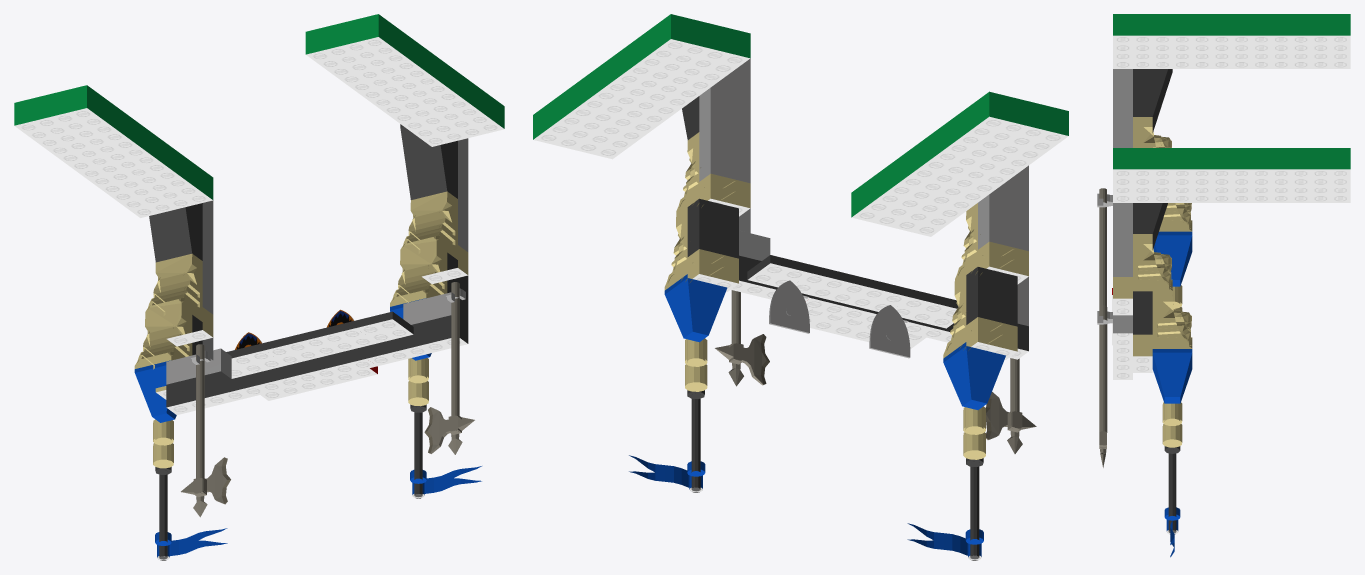
3 views of the same model, side by side, from view 1: azimuth 30°, elevation 25°; view 2: azimuth 150°, elevation 25°; view 3: azimuth 270°, elevation 25° (orthographic). The views are drawn at different scales.
Parts seen in each view (by area): view 1: 004_OC_6095B4_PART_1, 039_OC_6095B4_PART_5, 025_OC_6095B4_PART_3, 019_OC_6095B4_PART_4, 073_L_612300, 044_OC_6095B4_PART_14, 031_OC_6095B4_PART_6, 064_L_449500_flag_Blue_135, 057_OC_6095B4_PART_8.2; view 2: 004_OC_6095B4_PART_1, 019_OC_6095B4_PART_4, 025_OC_6095B4_PART_3, 039_OC_6095B4_PART_5, 044_OC_6095B4_PART_14, 073_L_612300, 069_OC_4801A1_Shield, 050_OC_6095B4_PART_12, 031_OC_6095B4_PART_6, 064_L_449500_flag_Blue_135, 057_OC_6095B4_PART_8.2; view 3: 004_OC_6095B4_PART_1, 019_OC_6095B4_PART_4, 025_OC_6095B4_PART_3, 039_OC_6095B4_PART_5, 044_OC_6095B4_PART_14, 073_L_612300.
Part boxes in pixels (bbox=[...]): 004_OC_6095B4_PART_1: bbox=[14, 14, 504, 217]; 039_OC_6095B4_PART_5: bbox=[166, 275, 468, 414]; 025_OC_6095B4_PART_3: bbox=[134, 200, 213, 560]; 019_OC_6095B4_PART_4: bbox=[390, 124, 468, 498]; 073_L_612300: bbox=[181, 344, 230, 517]; 044_OC_6095B4_PART_14: bbox=[424, 282, 474, 454]; 031_OC_6095B4_PART_6: bbox=[261, 366, 377, 400]; 064_L_449500_flag_Blue_135: bbox=[425, 466, 481, 493]; 057_OC_6095B4_PART_8.2: bbox=[170, 528, 227, 555]; 004_OC_6095B4_PART_1: bbox=[533, 14, 1068, 236]; 019_OC_6095B4_PART_4: bbox=[664, 58, 750, 492]; 025_OC_6095B4_PART_3: bbox=[943, 165, 1028, 560]; 039_OC_6095B4_PART_5: bbox=[731, 208, 1028, 359]; 044_OC_6095B4_PART_14: bbox=[715, 290, 769, 386]; 073_L_612300: bbox=[986, 358, 1036, 453]; 069_OC_4801A1_Shield: bbox=[869, 305, 910, 358]; 050_OC_6095B4_PART_12: bbox=[769, 280, 809, 333]; 031_OC_6095B4_PART_6: bbox=[808, 308, 926, 348]; 064_L_449500_flag_Blue_135: bbox=[629, 455, 688, 487]; 057_OC_6095B4_PART_8.2: bbox=[907, 523, 966, 555]; 004_OC_6095B4_PART_1: bbox=[1113, 14, 1350, 202]; 019_OC_6095B4_PART_4: bbox=[1113, 203, 1192, 534]; 025_OC_6095B4_PART_3: bbox=[1113, 69, 1192, 311]; 039_OC_6095B4_PART_5: bbox=[1097, 193, 1132, 379]; 044_OC_6095B4_PART_14: bbox=[1099, 305, 1107, 467]; 073_L_612300: bbox=[1099, 188, 1106, 306].
Size of the model in its own units: 16.39 by 16.8 by 10.24.
13 materials, 4 textured.
